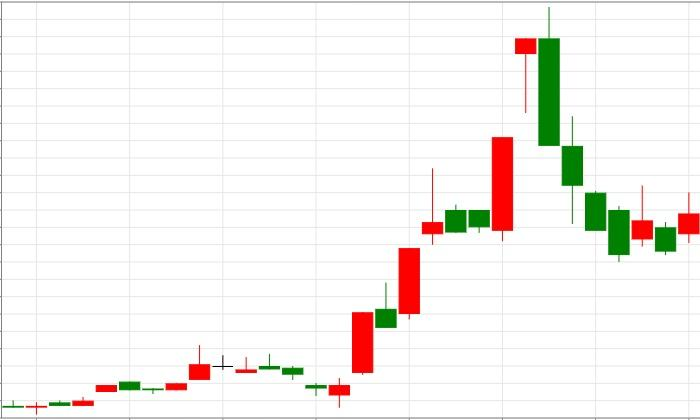three_black_crows_fall: (328, 6, 606, 407)
